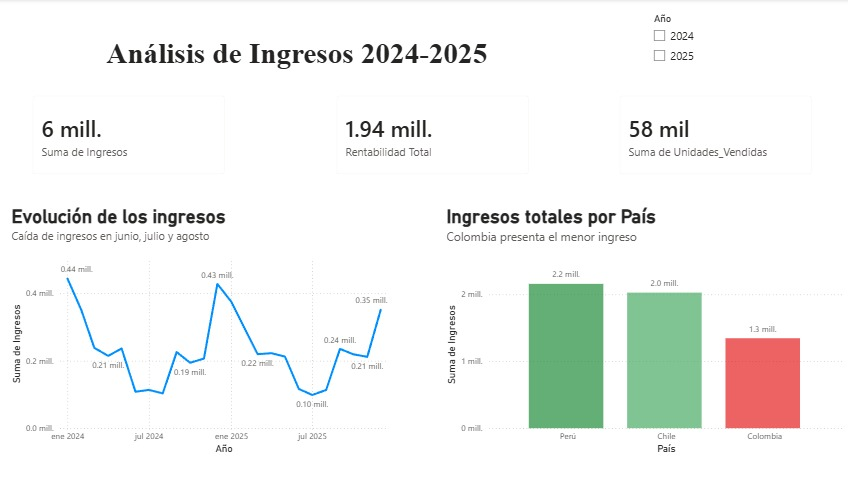

The page's visual inventory and layout, read from the dashboard file:
{"tool":"powerbi","page":{"name":"Resumen Ejecutivo","canvas":[1280,720],"ordinal":0},"visuals":[{"type":"lineChart","title":"Evolución de los ingresos ","fields":{"Y":["Sum(Andes_Retail_Group_2024_2025.Ingresos)"],"Category":["Andes_Retail_Group_2024_2025.Fecha_Pedido.Variación.Jerarquía de fechas.Año","Andes_Retail_Group_2024_2025.Fecha_Pedido.Variación.Jerarquía de fechas.Mes"]},"box":[17.9,301.8,571.4,369.6],"z":0},{"type":"slicer","fields":{"Values":["Andes_Retail_Group_2024_2025.Fecha_Pedido.Variación.Jerarquía de fechas.Año"]},"box":[950,16.1,316.1,126.8],"z":1000},{"type":"textbox","box":[0,16.1,880.4,141.1],"z":2000},{"type":"clusteredColumnChart","title":"Ingresos totales por País","fields":{"Category":["Andes_Retail_Group_2024_2025.País"],"Y":["Sum(Andes_Retail_Group_2024_2025.Ingresos)"]},"box":[653.6,301.8,591.1,369.6],"z":3000},{"type":"cardVisual","fields":{"Data":["Sum(Andes_Retail_Group_2024_2025.Ingresos)"]},"box":[37,124.3,315.8,149.5],"z":4000},{"type":"cardVisual","fields":{"Data":["Andes_Retail_Group_2024_2025.Rentabilidad Total"]},"box":[482.1,124.3,315.8,149.5],"z":5000},{"type":"cardVisual","fields":{"Data":["Sum(Andes_Retail_Group_2024_2025.Unidades_Vendidas)"]},"box":[895.3,124.3,315.8,149.5],"z":6000}]}

Visuals, with their boxes in screenshot pixels (x1, y1, x2, y2), scaled from the page's 1280x720 canvas onto the 848x486 screenshot:
"Evolución de los ingresos " lineChart: 12 204 390 453
slicer - Andes_Retail_Group_2024_2025.Fecha_Pedido.Variación.Jerarquía de fechas.Año: 629 11 839 96
textbox: 0 11 583 106
"Ingresos totales por País" clusteredColumnChart: 433 204 825 453
cardVisual - Sum(Andes_Retail_Group_2024_2025.Ingresos): 25 84 234 185
cardVisual - Andes_Retail_Group_2024_2025.Rentabilidad Total: 319 84 529 185
cardVisual - Sum(Andes_Retail_Group_2024_2025.Unidades_Vendidas): 593 84 802 185
